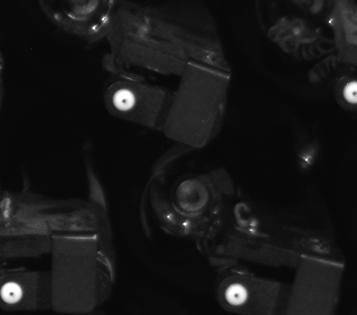fiber: (220, 279, 254, 310), (1, 275, 27, 309), (109, 88, 141, 115), (336, 76, 357, 109)
